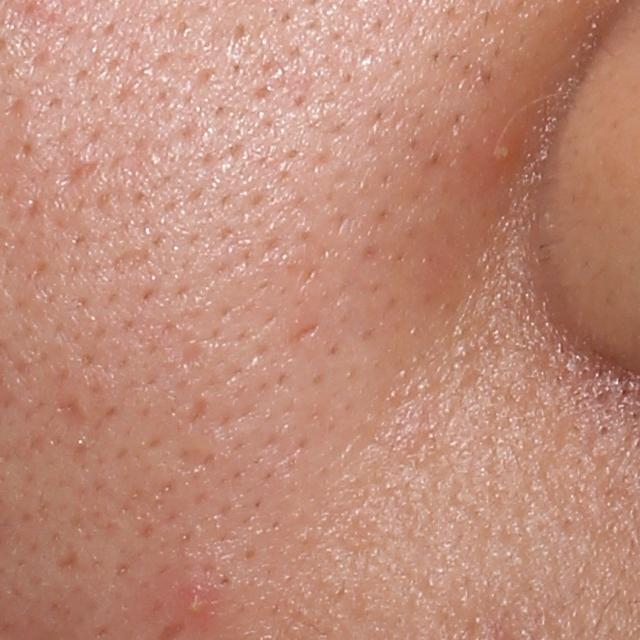atrophic_scar: (46, 392, 93, 437), (54, 546, 91, 587), (174, 444, 217, 476), (108, 245, 153, 275), (54, 161, 102, 185), (287, 318, 323, 341), (183, 392, 210, 421)
pustule: (167, 573, 229, 632), (469, 120, 527, 173)
